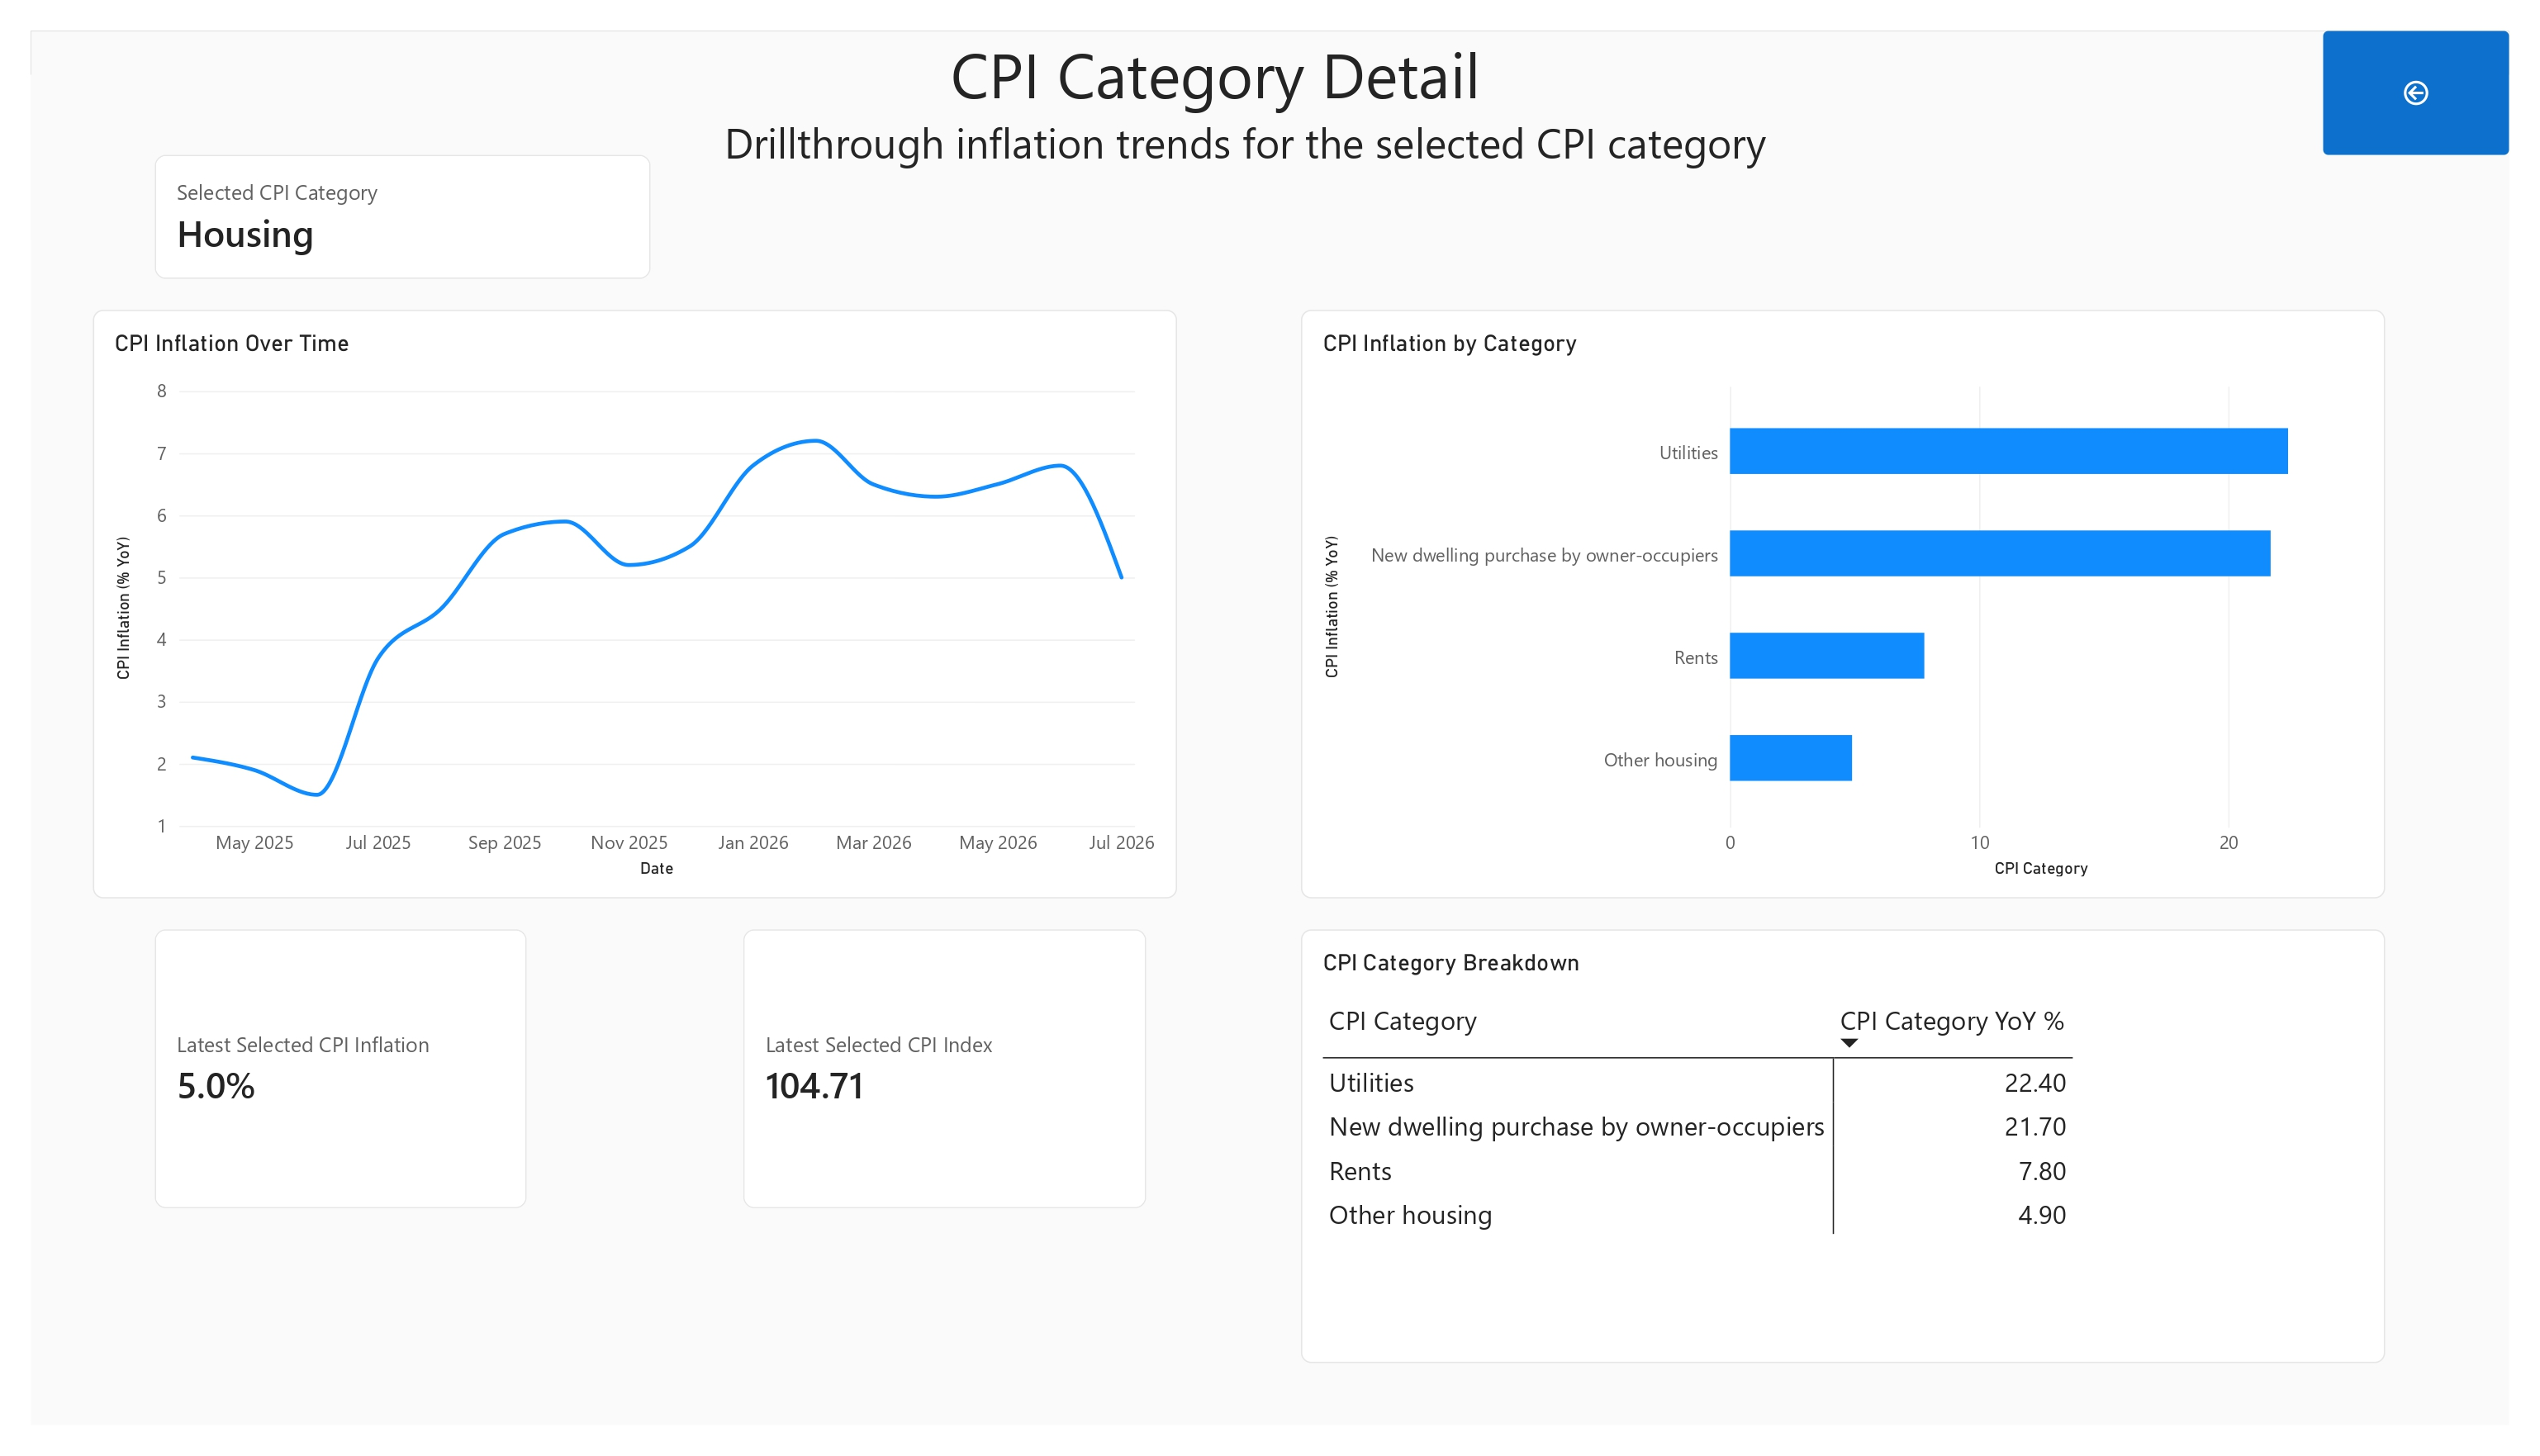

What the dashboard file says about the page in this screenshot:
{"tool":"powerbi","page":{"name":"CPI Category Detail","canvas":[1920,1080],"ordinal":4},"visuals":[{"type":"actionButton","box":[1776,0,144,96],"z":0},{"type":"lineChart","title":"CPI Inflation Over Time","fields":{"Category":["DimDate.Date"],"Y":["CPI.CPI Category YoY %"]},"box":[48,216,840,456],"z":1000},{"type":"clusteredBarChart","title":"CPI Inflation by Category","fields":{"Category":["CPI.CPI Category"],"Y":["CPI.CPI Category YoY %"]},"box":[984,216,840,456],"z":2000},{"type":"textbox","box":[0,0,1728,120],"z":3000},{"type":"cardVisual","fields":{"Data":["CPI.Selected CPI Category"]},"box":[96,96,384,96],"z":4000},{"type":"cardVisual","fields":{"Data":["CPI.Latest Selected CPI YoY %"]},"box":[96,696,288,216],"z":5000},{"type":"cardVisual","fields":{"Data":["CPI.Latest Selected CPI Index"]},"box":[552,696,312,216],"z":6000},{"type":"pivotTable","title":"CPI Category Breakdown","fields":{"Rows":["CPI.CPI Category"],"Values":["select","CPI.CPI Category YoY %"]},"box":[984,696,840,336],"z":7000}]}

Visuals, with their boxes on the page's 1920x1080 design canvas (x1, y1, x2, y2). These are canvas units, not pixel positions in the 2540x1456 screenshot, which may show the page scaled, cropped or inside an application window:
actionButton: 1776 0 1920 96
"CPI Inflation Over Time" lineChart: 48 216 888 672
"CPI Inflation by Category" clusteredBarChart: 984 216 1824 672
textbox: 0 0 1728 120
cardVisual - CPI.Selected CPI Category: 96 96 480 192
cardVisual - CPI.Latest Selected CPI YoY %: 96 696 384 912
cardVisual - CPI.Latest Selected CPI Index: 552 696 864 912
"CPI Category Breakdown" pivotTable: 984 696 1824 1032
